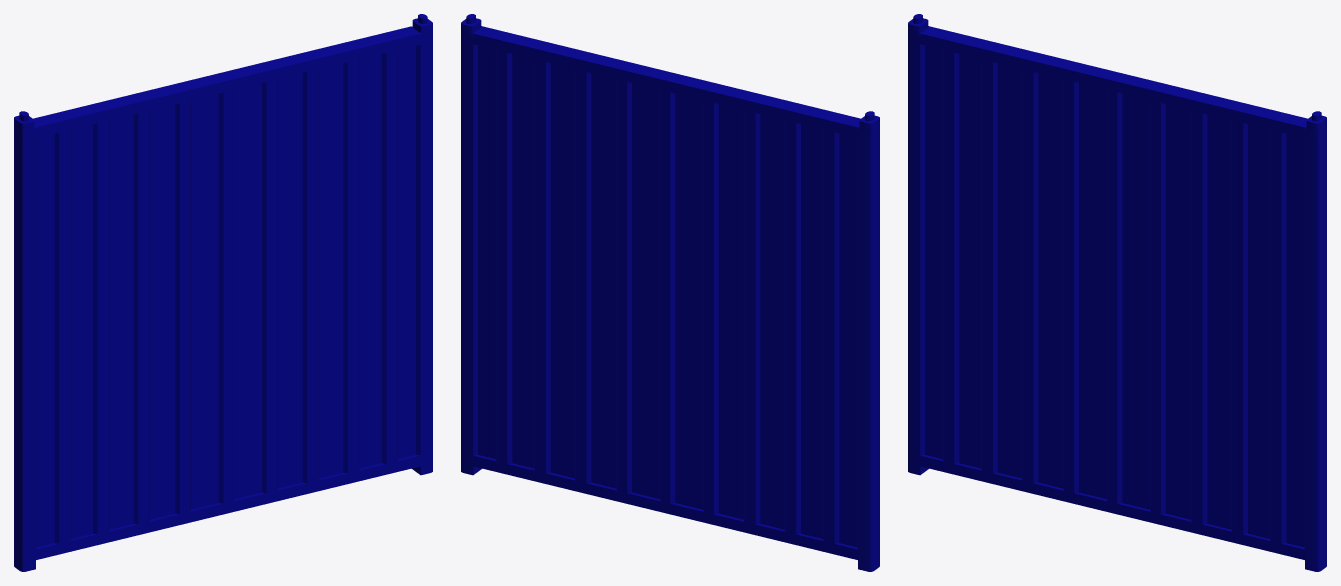
Rendered from fence.fbx.
3 views of the same model, side by side, from view 1: azimuth 30°, elevation 25°; view 2: azimuth 150°, elevation 25°; view 3: azimuth 330°, elevation 25° (orthographic).
Visible parts, largest first — view 1: pCube2; view 2: pCube2; view 3: pCube2.
Part boxes in pixels (x1,y1,x2,y2): pCube2: (14,14,432,571); pCube2: (461,14,879,571); pCube2: (908,14,1326,571).
Bounding box in the file's own units: 2.19 × 2.31 × 0.09.
